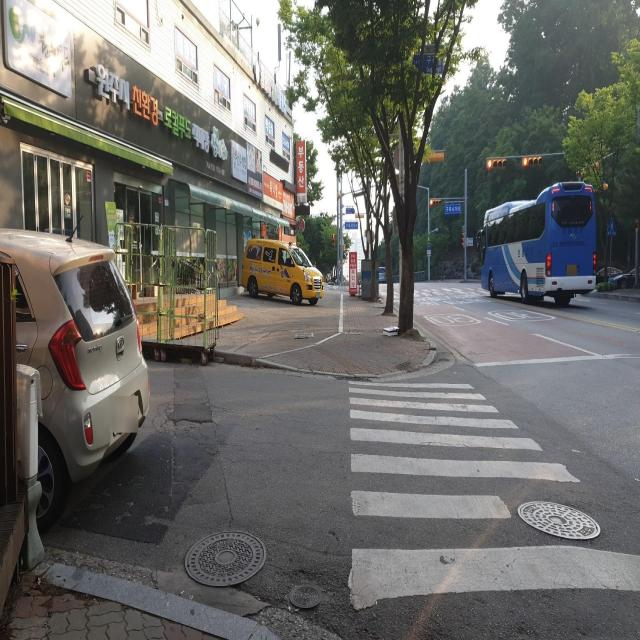횡단보도: (348, 376, 640, 612), (383, 282, 527, 300)
